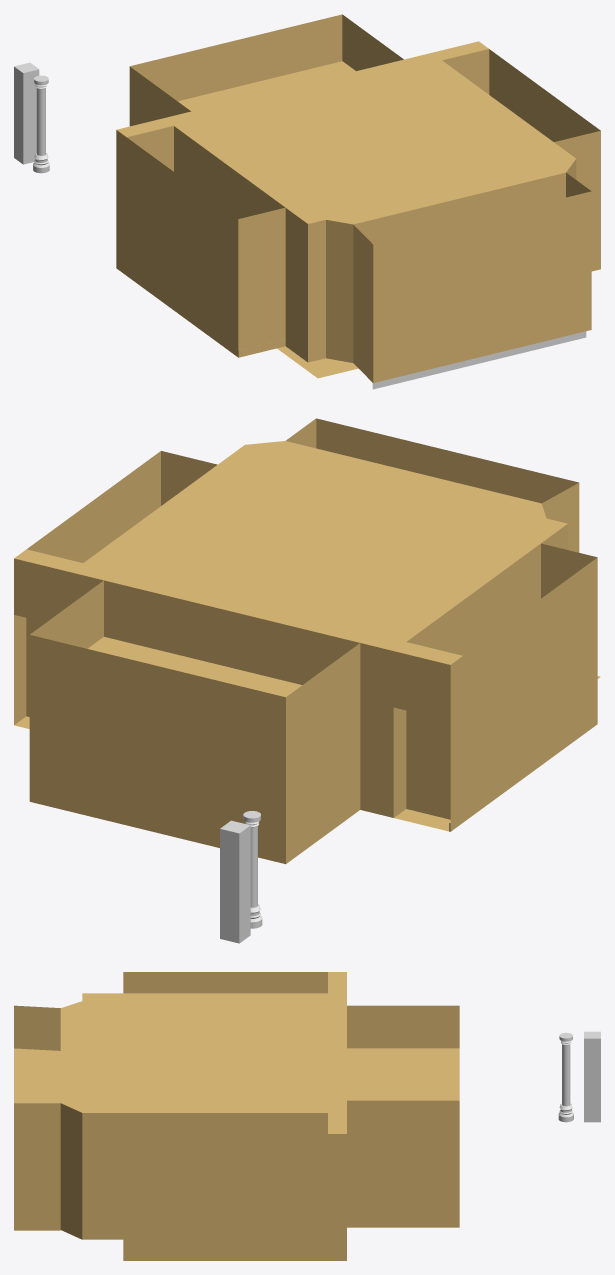
Rendered from SupremeCourt.glb.
The picture shows the model from 3 angles, top to bottom: view 1: azimuth 30°, elevation 25°; view 2: azimuth 150°, elevation 25°; view 3: azimuth 270°, elevation 25°; orthographic projection. The views are drawn at different scales.
Parts seen in each view (by area): view 1: Building, Cube.001, Plane, Pillar; view 2: Building, Cube.001, Pillar; view 3: Building, Cube.001, Pillar.
Boxes of the visible parts, x1,y1,x2,y2 form: Building: [116, 14, 600, 383]; Cube.001: [14, 62, 39, 164]; Plane: [372, 331, 586, 389]; Pillar: [33, 75, 49, 173]; Building: [14, 418, 600, 864]; Cube.001: [220, 820, 250, 943]; Pillar: [243, 811, 262, 928]; Building: [14, 972, 459, 1260]; Cube.001: [584, 1031, 600, 1122]; Pillar: [558, 1032, 573, 1122].
Size of the model in its own units: 9.98 by 3.89 by 15.3.
